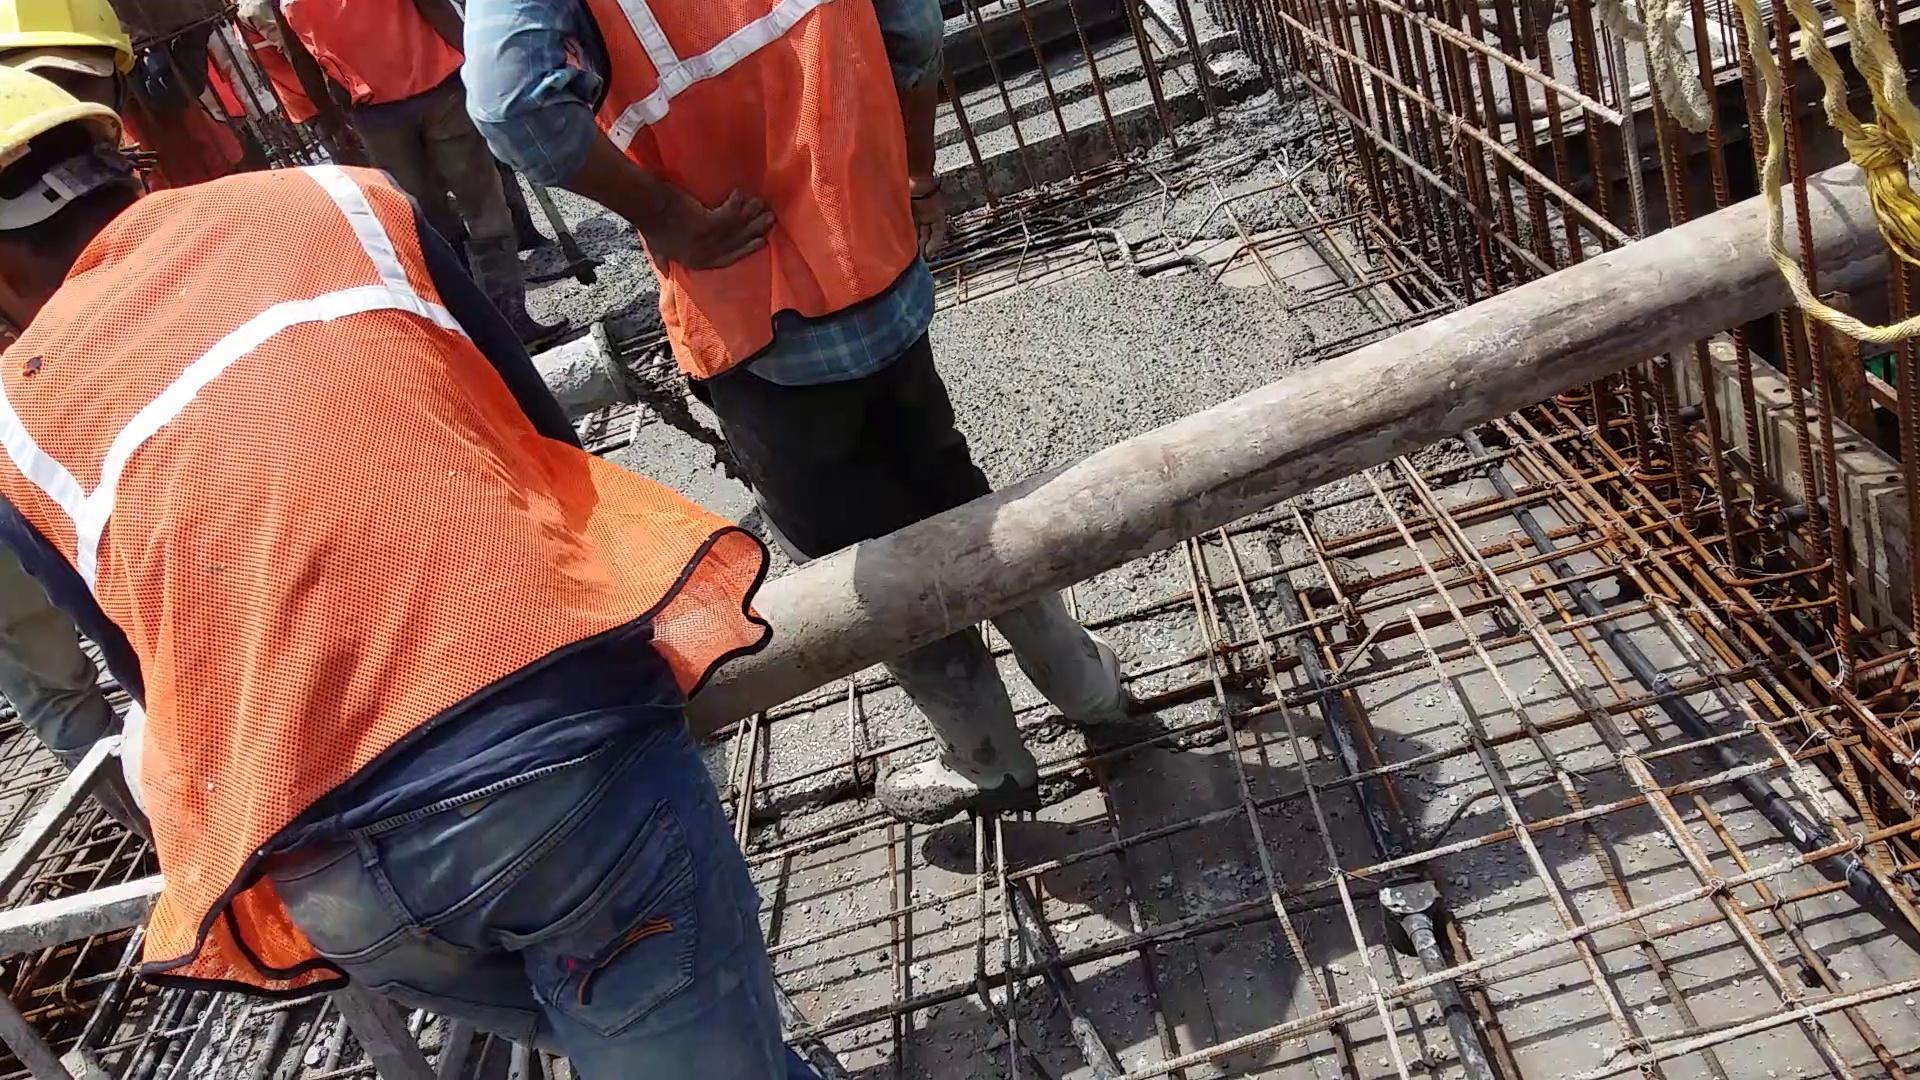SAFE: (1, 75, 384, 938)
